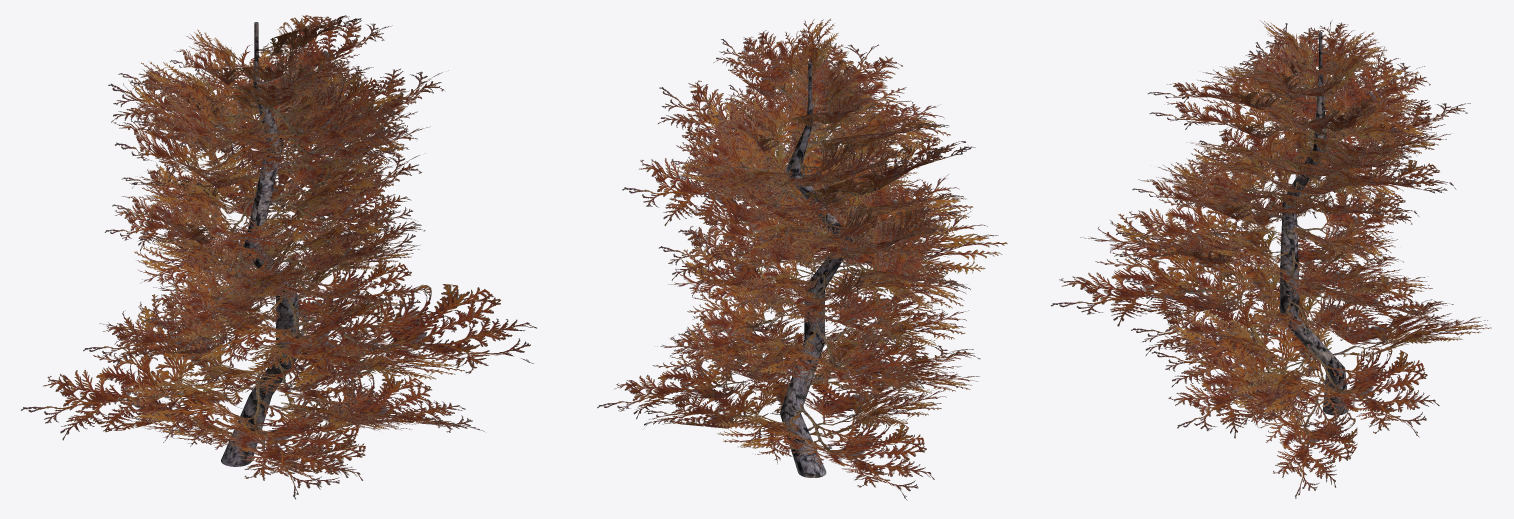
The model's file is TreeBrownMoreLeavesReady.fbx.
The picture shows the model from 3 angles, left to right: view 1: azimuth 30°, elevation 25°; view 2: azimuth 150°, elevation 25°; view 3: azimuth 270°, elevation 25°; orthographic projection. The views are drawn at different scales.
Parts seen in each view (by area): view 1: pPlane48, pCylinder1; view 2: pPlane48, pCylinder1; view 3: pPlane48, pCylinder1.
Part boxes in pixels (left/top/right/bottom): pPlane48: left=21, top=15, right=537, bottom=499; pCylinder1: left=221, top=22, right=298, bottom=466; pPlane48: left=597, top=18, right=1007, bottom=500; pCylinder1: left=780, top=62, right=852, bottom=477; pPlane48: left=1050, top=20, right=1491, bottom=498; pCylinder1: left=1280, top=31, right=1348, bottom=415.
Size of the model in its own units: 6.8 by 8.2 by 8.29.
